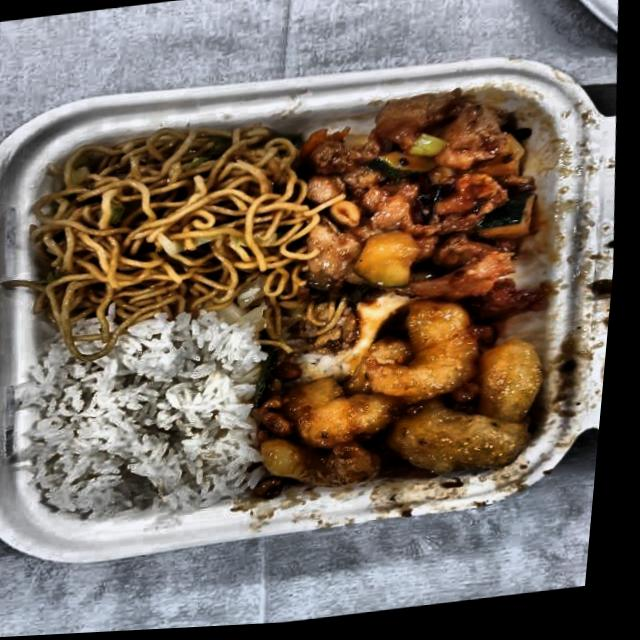Food: (253, 295, 585, 524), (294, 86, 571, 332), (24, 114, 324, 339), (21, 311, 283, 530)
